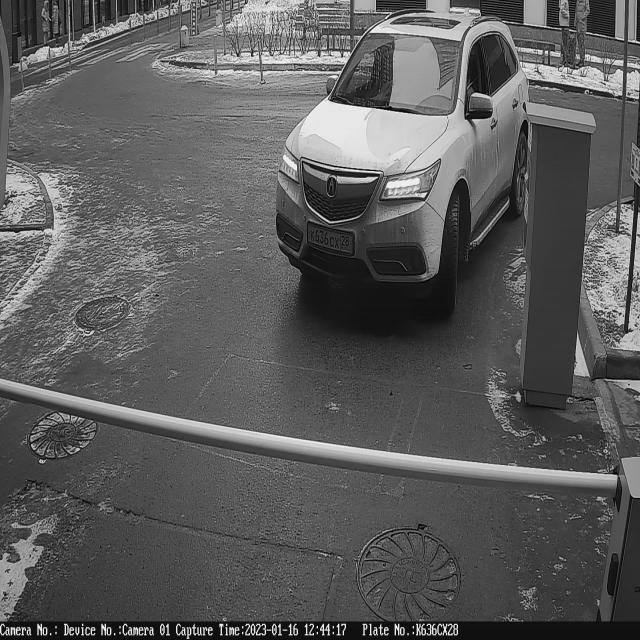car-plate-numbers: (307, 221, 358, 260)
